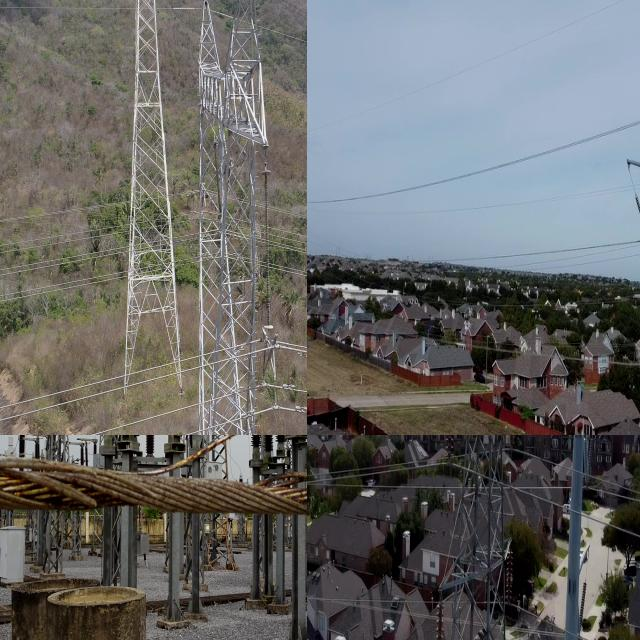杆塔: (190, 0, 273, 435), (120, 0, 182, 397), (437, 435, 518, 640)
正常电缆: (525, 483, 640, 544), (526, 446, 640, 500)
正常绝缘子: (261, 168, 273, 333), (211, 136, 228, 222), (503, 538, 514, 610), (433, 590, 446, 640), (628, 183, 640, 227), (441, 435, 456, 468), (505, 435, 518, 455)
电缆破损: (0, 435, 307, 530)
